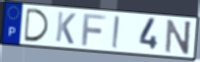4: (138, 16, 162, 54)
D: (24, 7, 51, 43)
F: (80, 12, 108, 47)
I: (111, 15, 121, 50)
K: (54, 11, 77, 46)
N: (164, 19, 193, 56)
